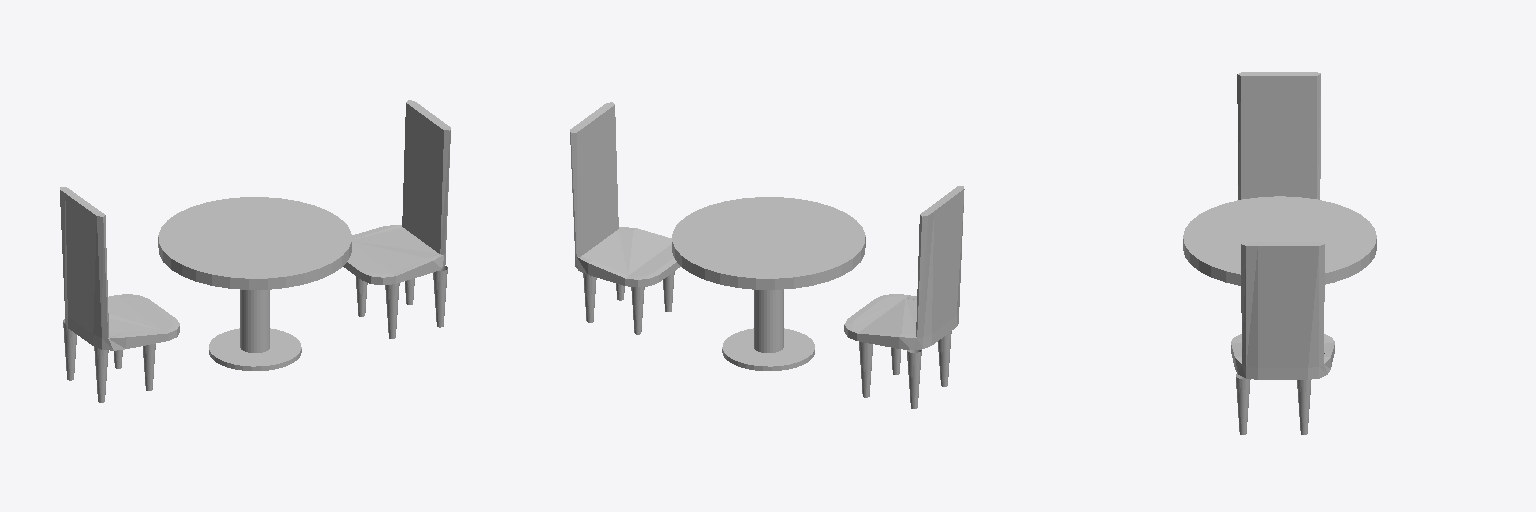
Rendered from table_3.obj.
3 views of the same model, side by side, from view 1: azimuth 30°, elevation 25°; view 2: azimuth 150°, elevation 25°; view 3: azimuth 270°, elevation 25° (orthographic).
Parts seen in each view (by area): view 1: table.002, Cube.009, Cube.011, Cylinder.037, Cylinder.039, Cylinder.046, Cylinder.045; view 2: table.002, Cube.009, Cube.011, Cylinder.045, Cylinder.047; view 3: Cube.009, table.002, Cube.011, Cylinder.037, Cylinder.038.
Part boxes in pixels (bbox=[...]): table.002: bbox=[158, 197, 351, 370]; Cube.009: bbox=[343, 100, 450, 284]; Cube.011: bbox=[60, 187, 179, 350]; Cylinder.037: bbox=[433, 266, 447, 327]; Cylinder.039: bbox=[385, 283, 399, 338]; Cylinder.046: bbox=[94, 347, 108, 402]; Cylinder.045: bbox=[63, 319, 76, 380]; table.002: bbox=[672, 197, 865, 370]; Cube.009: bbox=[570, 102, 680, 287]; Cube.011: bbox=[844, 186, 964, 349]; Cylinder.045: bbox=[907, 350, 921, 408]; Cylinder.047: bbox=[859, 342, 872, 397]; Cube.009: bbox=[1231, 242, 1334, 379]; table.002: bbox=[1183, 196, 1376, 285]; Cube.011: bbox=[1237, 72, 1320, 200]; Cylinder.037: bbox=[1236, 374, 1250, 434]; Cylinder.038: bbox=[1297, 380, 1310, 434].
Bounding box in the file's own units: 30.41 × 15.81 × 14.32.